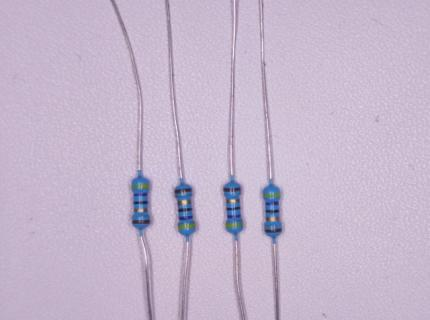Black band: (227, 206, 240, 211), (178, 208, 192, 212), (266, 209, 280, 213), (133, 201, 148, 204)
Brown band: (174, 188, 192, 194), (133, 219, 150, 224), (224, 187, 241, 192), (265, 228, 282, 233)
Gold band: (134, 208, 148, 213), (178, 200, 192, 205), (226, 198, 240, 203), (266, 216, 279, 221)
Violet band: (179, 215, 192, 221), (227, 214, 241, 219), (266, 201, 279, 205), (133, 193, 148, 196)
Yellow band: (132, 183, 149, 189), (179, 223, 195, 229), (227, 222, 243, 228), (263, 193, 280, 197)
